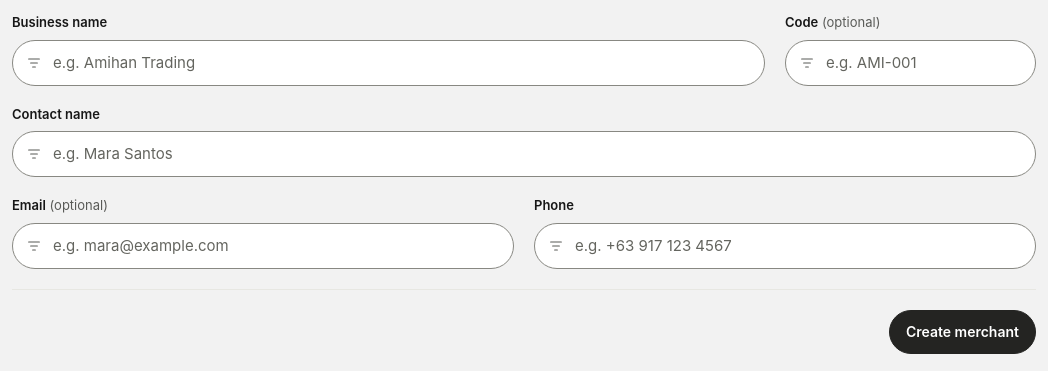
Scenario: MerchantForm › filters invalid characters before validation
This screenshot has width=1048, height=371.
Step 1. Type " mkt_--01 " into the field labelled "Code (optional)" → (910, 62), box [785, 40, 1036, 86]
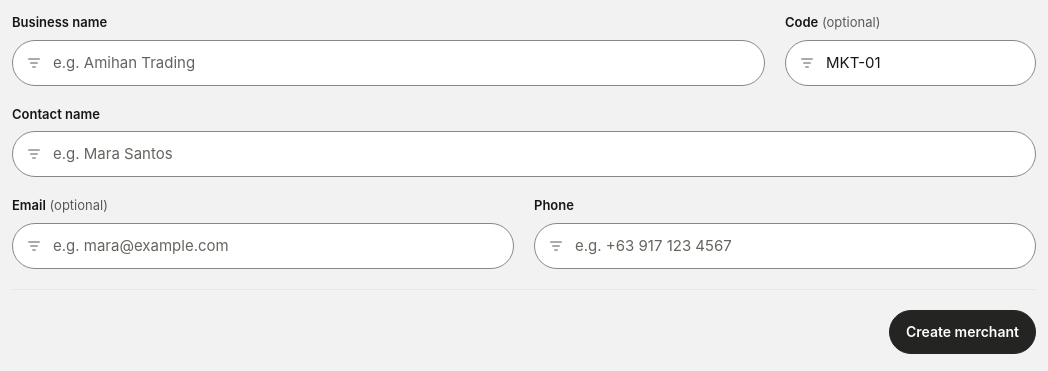
Step 2. Type "Mara @EXAMPLE.COM" into the field labelled "Email (optional)" → (263, 246), box [12, 223, 514, 269]
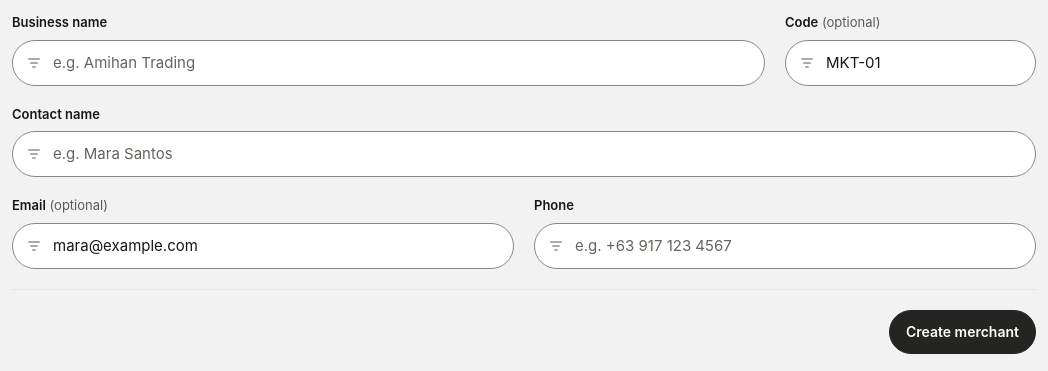
Step 3. Type "abc+63 (917) 555-0101x" into the field labelled "Phone" → (785, 246), box [534, 223, 1036, 269]
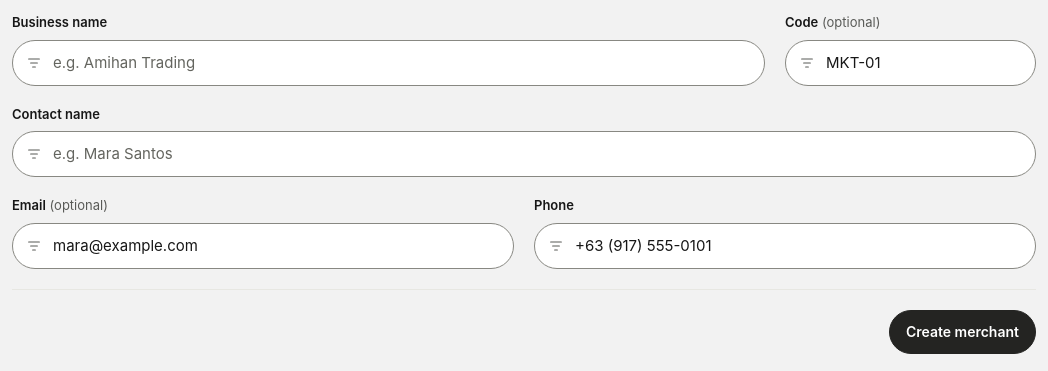
Result: the field labelled "Code (optional)" holds "MKT-01" at [785, 40, 1036, 86]
Result: the field labelled "Email (optional)" holds "mara@example.com" at [12, 223, 514, 269]
Result: the field labelled "Phone" holds "+63 (917) 555-0101" at [534, 223, 1036, 269]
